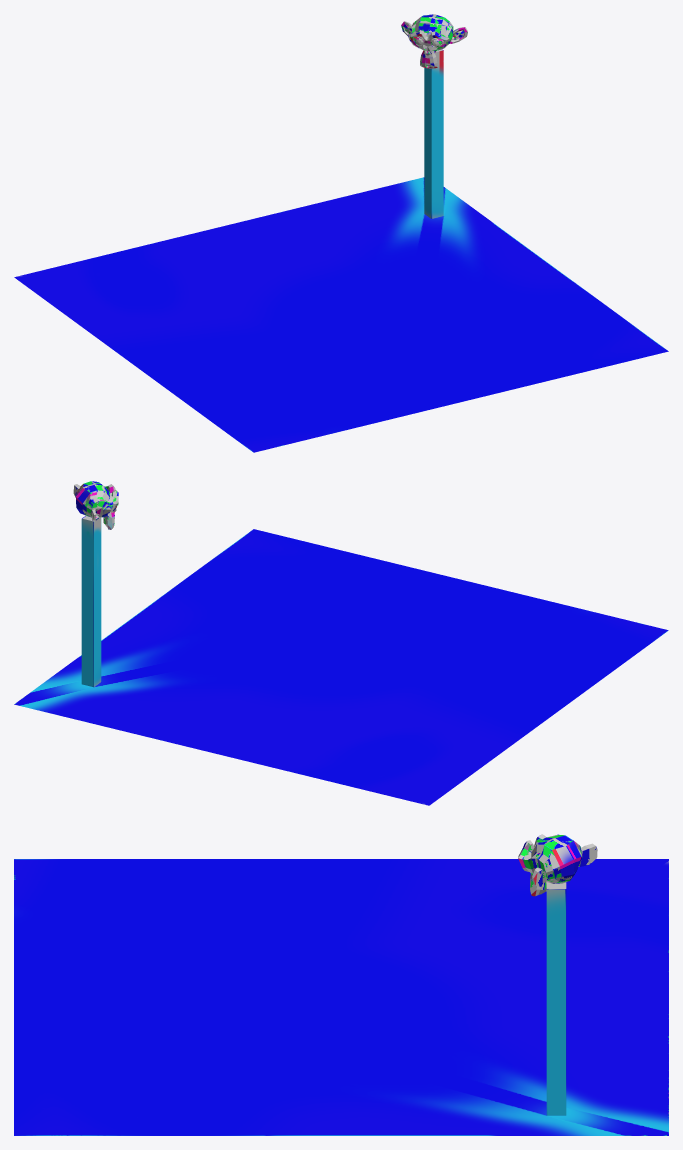
File: majom.obj
The picture shows the model from 3 angles, top to bottom: view 1: azimuth 30°, elevation 25°; view 2: azimuth 150°, elevation 25°; view 3: azimuth 270°, elevation 25°; orthographic projection. The views are drawn at different scales.
Visible parts, largest first — view 1: Síklap; view 2: Síklap; view 3: Síklap.
Boxes of the visible parts, <box> form: Síklap: <box>14,14,668,452</box>; Síklap: <box>14,481,668,805</box>; Síklap: <box>14,834,668,1135</box>.
Size of the model in its own units: 19.07 by 8.74 by 19.07.
